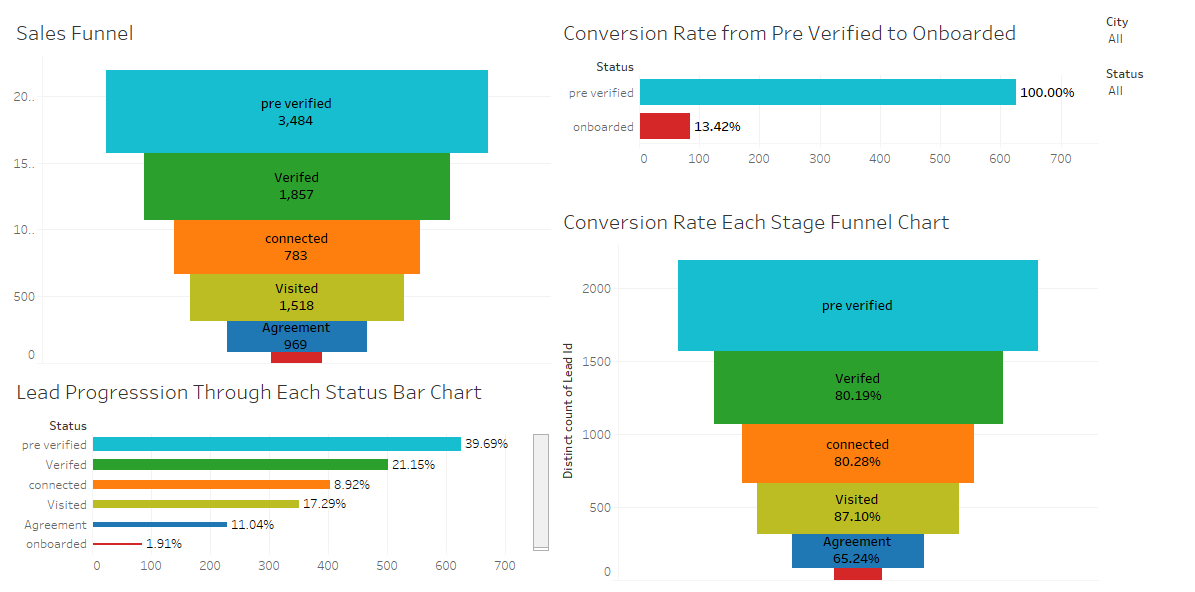

This screenshot's page, from the dashboard's own definition file:
{"tool":"tableau","page":{"name":"Funnel Analysis Dashboard","canvas":[1000,1000],"units":"permille","ordinal":0},"visuals":[{"type":"worksheet","title":"Sales Funnel","mark":"Automatic","rows":["lead_id"],"box":[6.7,13.5,457.6,606.3]},{"type":"worksheet","title":"Conversion Rate from Pre Verified to Onboarded","mark":"Automatic","rows":["status"],"cols":["lead_id"],"box":[464.3,13.5,457.9,319.2]},{"type":"filter","title":"Conversion Rate Each Stage Funnel Chart","param":"[federated.0ac5om01of4tot110vx8502mueae].[none:city:nk]","box":[922.2,13.5,71.1,87.8]},{"type":"filter","title":"Conversion Rate Each Stage Funnel Chart","param":"[federated.0ac5om01of4tot110vx8502mueae].[none:status:nk]","box":[922.2,101.3,71.1,87.8]},{"type":"worksheet","title":"Conversion Rate Each Stage Funnel Chart","mark":"Automatic","rows":["lead_id"],"box":[464.3,332.7,457.9,653.8]},{"type":"worksheet","title":"Lead Progresssion Through Each Status Bar Chart","mark":"Automatic","rows":["status"],"cols":["lead_id"],"box":[6.7,619.9,457.6,366.6]}]}

Visuals, with their boxes on the dashboard's canvas, which has no fixed pixel size, in thousandths of its width and height (x1, y1, x2, y2). These are canvas units, not pixel positions in the 1195x592 screenshot, which may show the page scaled, cropped or inside an application window:
"Sales Funnel" worksheet: 7, 14, 464, 620
"Conversion Rate from Pre Verified to Onboarded" worksheet: 464, 14, 922, 333
"Conversion Rate Each Stage Funnel Chart" filter: 922, 14, 993, 101
"Conversion Rate Each Stage Funnel Chart" filter: 922, 101, 993, 189
"Conversion Rate Each Stage Funnel Chart" worksheet: 464, 333, 922, 986
"Lead Progresssion Through Each Status Bar Chart" worksheet: 7, 620, 464, 986
